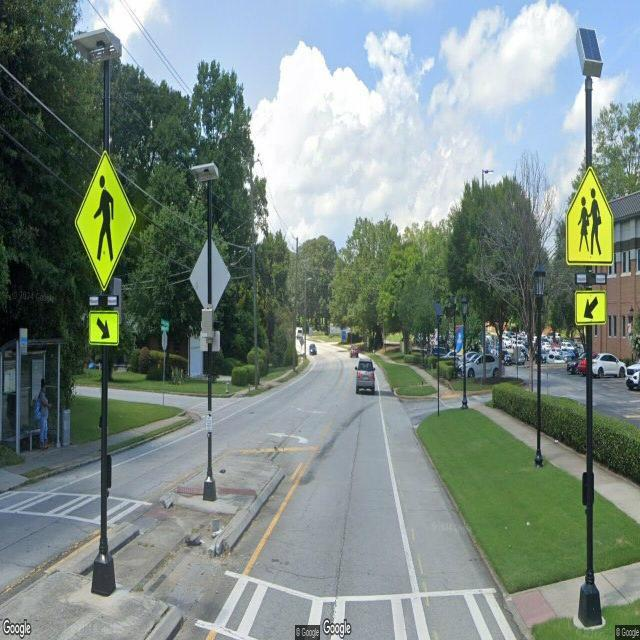seating: (26, 426, 44, 452)
shelter: (1, 340, 66, 458)
trash_can: (61, 408, 70, 448)
